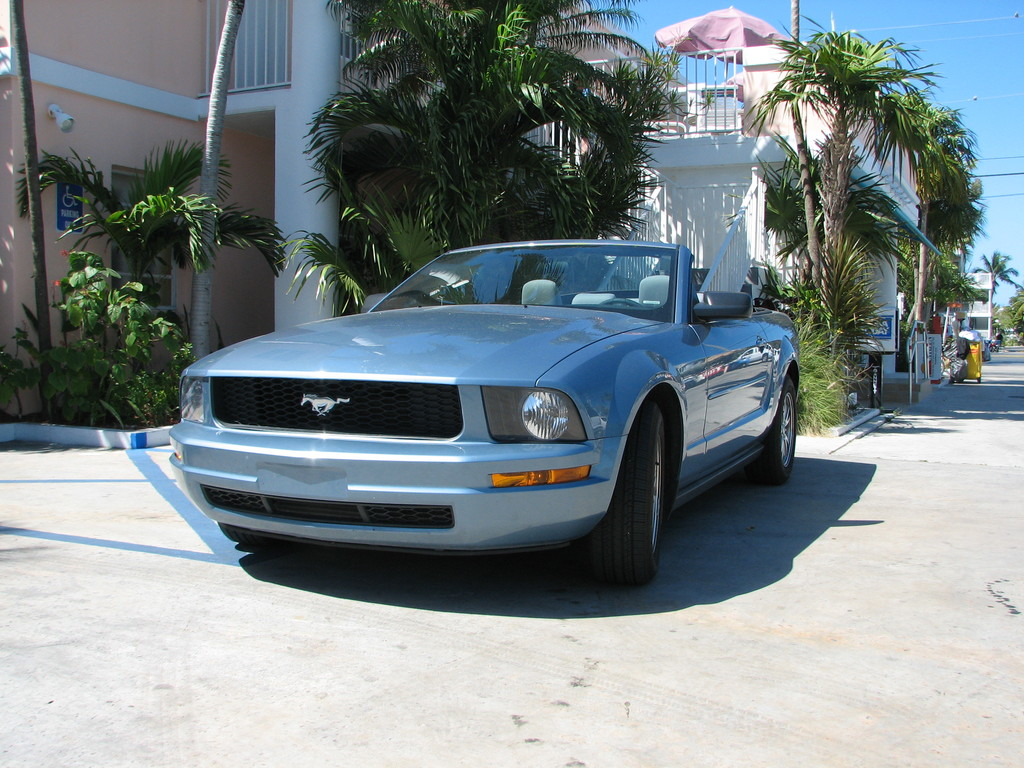Car: (144, 229, 803, 576)
